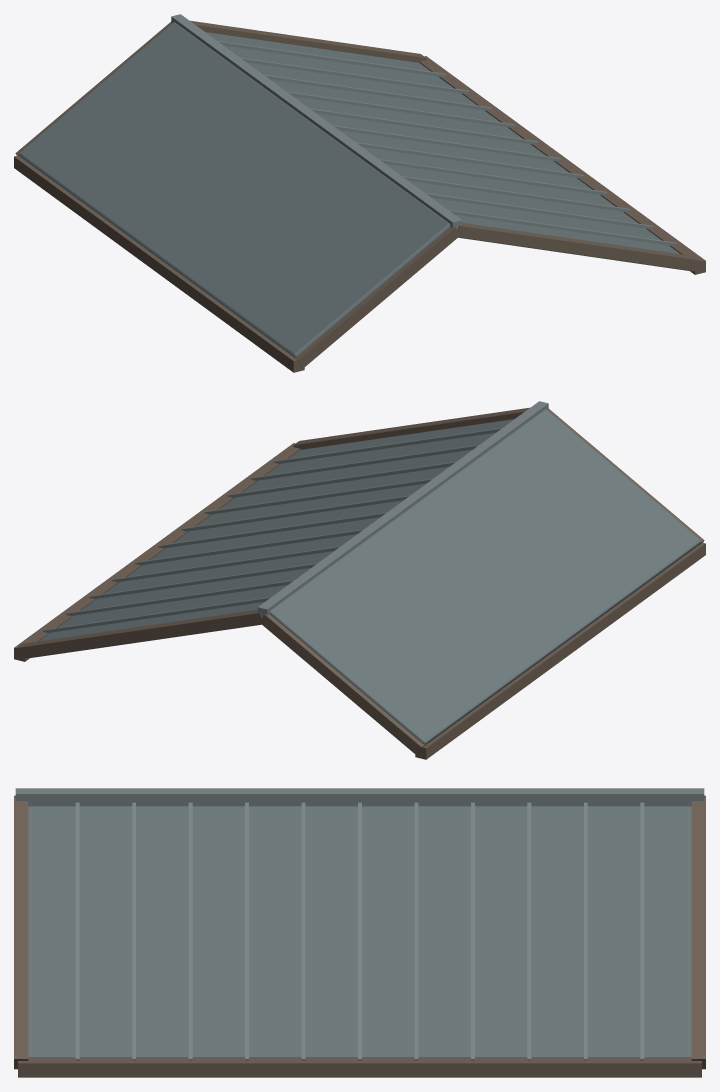
File: Lake_Roof_Offset.glb
3 views of the same model, one above another, from view 1: azimuth 30°, elevation 25°; view 2: azimuth 150°, elevation 25°; view 3: azimuth 270°, elevation 25° (orthographic). The views are drawn at different scales.
Parts seen in each view (by area): view 1: Roof surface.004, Roof surface.005, Standing seam.079, Standing seam.095, Standing seam.098, Standing seam.093, Standing seam.094, Standing seam.097, Standing seam.086, Standing seam.090, Standing seam.083, Standing seam.085 (+7 smaller); view 2: Roof surface.004, Roof surface.005, Standing seam.079, Standing seam.098, Standing seam.097, Standing seam.093, Standing seam.096, Standing seam.095, Standing seam.082, Standing seam.086, Standing seam.083, Standing seam.085 (+7 smaller); view 3: Roof surface.005, Standing seam.093, Standing seam.098, Standing seam.095, Standing seam.097, Standing seam.081, Standing seam.083, Standing seam.089, Standing seam.091, Standing seam.085, Standing seam.087, Standing seam.082 (+4 smaller).
Boxes of the visible parts, x1,y1,x2,y2 form: Roof surface.004: (18,22,450,357); Roof surface.005: (205,32,693,271); Standing seam.079: (14,155,304,372); Standing seam.095: (456,223,703,271); Standing seam.098: (171,14,462,229); Standing seam.093: (419,56,705,274); Standing seam.094: (294,227,458,368); Standing seam.097: (190,20,426,62); Standing seam.086: (333,125,561,161); Standing seam.090: (240,57,469,93); Standing seam.083: (402,176,630,211); Standing seam.085: (356,142,584,178); Roof surface.004: (269,409,701,744); Roof surface.005: (26,419,514,658); Standing seam.079: (415,542,705,759); Standing seam.098: (257,401,548,616); Standing seam.097: (16,610,262,658); Standing seam.093: (14,443,300,661); Standing seam.096: (259,614,425,755); Standing seam.095: (293,407,529,449); Standing seam.082: (250,444,479,480); Standing seam.086: (158,512,386,548); Standing seam.083: (227,461,456,497); Standing seam.085: (181,495,409,531); Roof surface.005: (28,806,691,1056); Standing seam.093: (18,1057,701,1077); Standing seam.098: (15,788,704,806); Standing seam.095: (14,797,28,1069); Standing seam.097: (691,797,705,1069); Standing seam.081: (75,802,79,1060); Standing seam.083: (188,802,192,1060); Standing seam.089: (527,802,531,1060); Standing seam.091: (640,802,644,1060); Standing seam.085: (301,802,305,1060); Standing seam.087: (414,802,418,1060); Standing seam.082: (132,802,135,1060).
Size of the model in its own units: 5.24 by 1.37 by 6.23.
